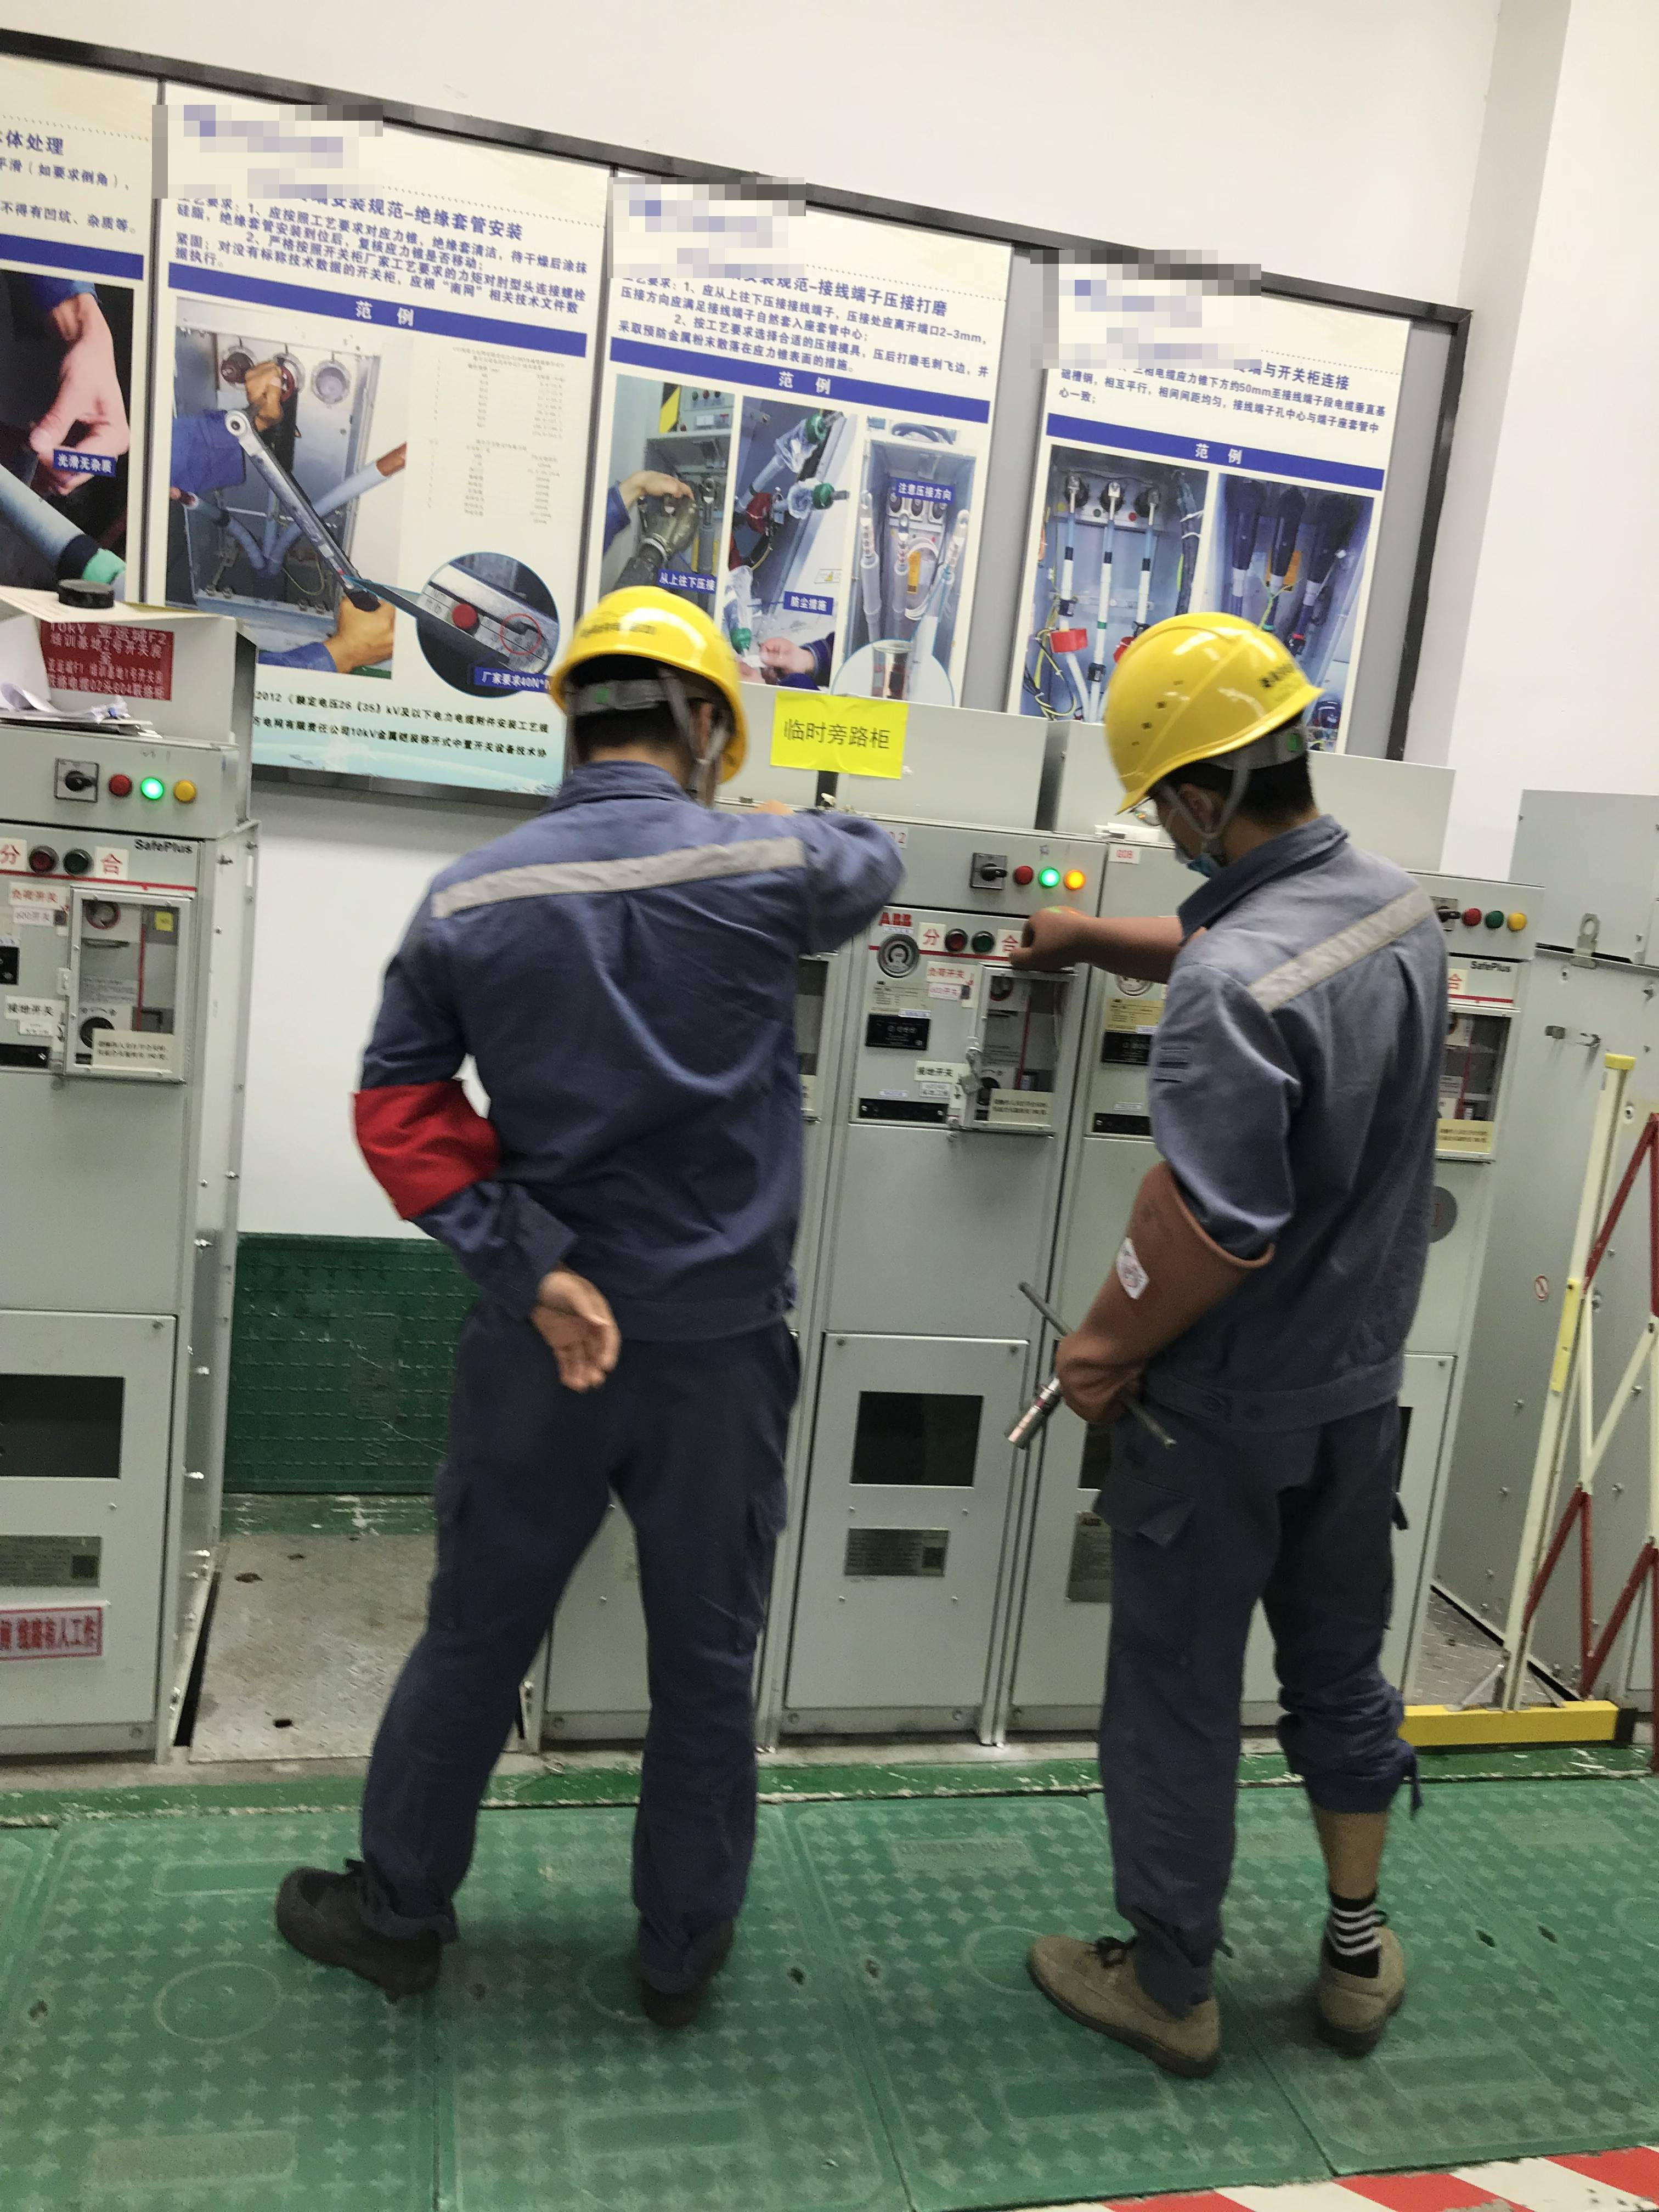downsuit: (375, 1341, 805, 1973), (1100, 1433, 1413, 1947)
upsuit: (345, 761, 899, 1329), (1070, 824, 1455, 1439)
wrongbottom: (1316, 1808, 1399, 1912)
